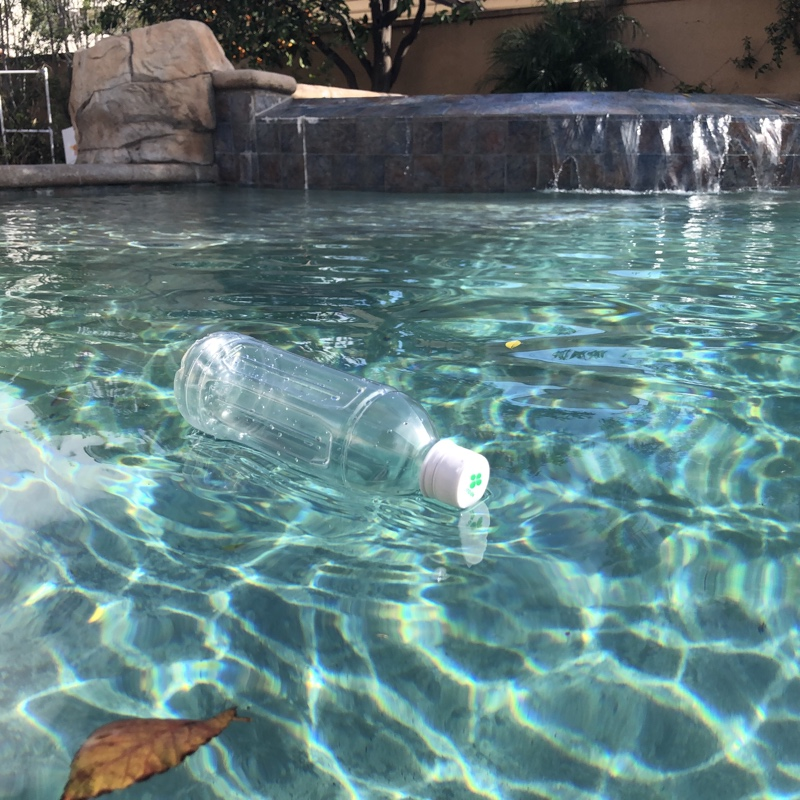Plastic Bottle: (172, 326, 495, 514)
